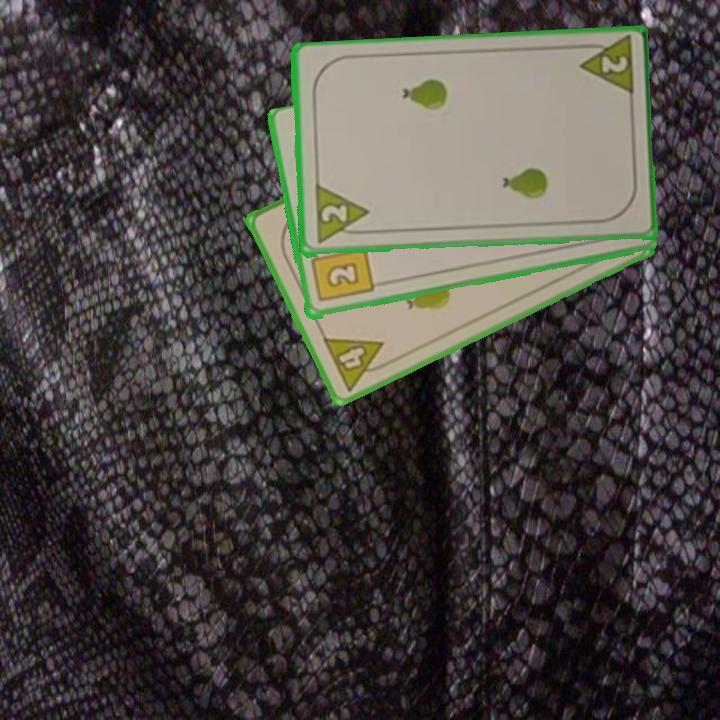2b: (307, 244, 376, 306)
2p: (574, 35, 637, 100), (311, 183, 372, 247)
4p: (319, 333, 395, 394)
